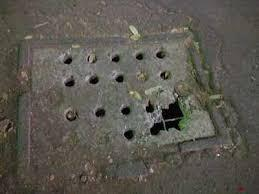open drainage-not overflowing-: (11, 43, 235, 165)
